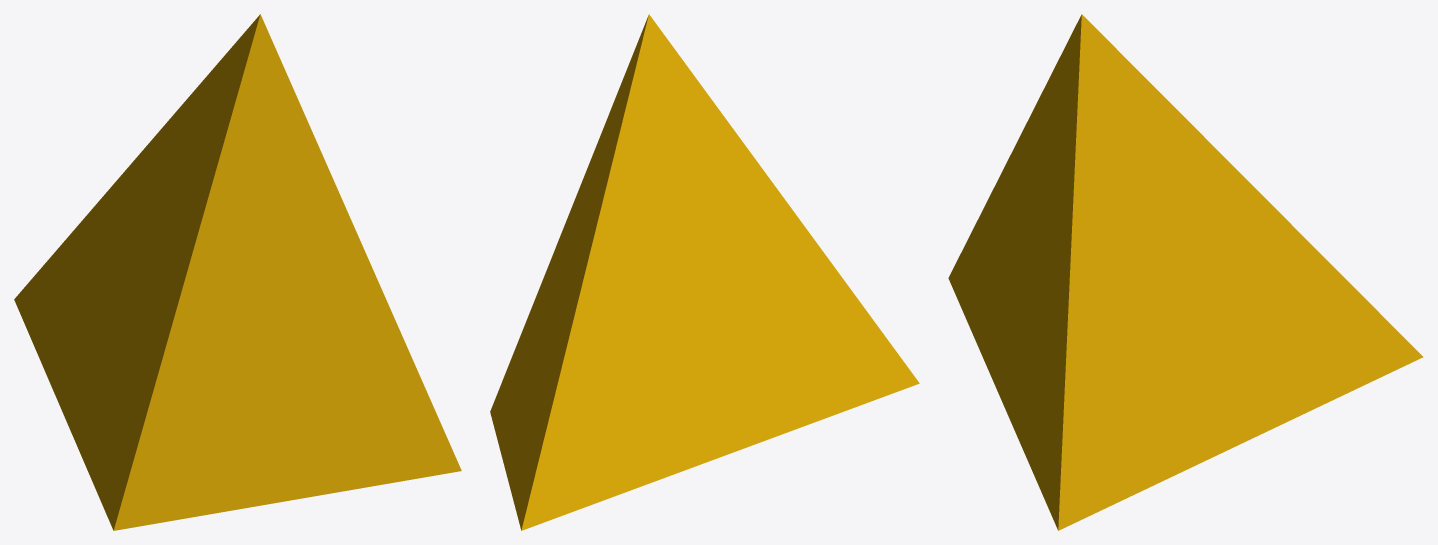
The model's file is Particle_Shape1.fbx.
3 views of the same model, side by side, from view 1: azimuth 30°, elevation 25°; view 2: azimuth 150°, elevation 25°; view 3: azimuth 270°, elevation 25° (orthographic). The views are drawn at different scales.
Visible parts, largest first — view 1: pSolid1; view 2: pSolid1; view 3: pSolid1.
Part boxes in pixels (x1,y1,x2,y2): pSolid1: [14, 14, 461, 530]; pSolid1: [490, 14, 919, 530]; pSolid1: [948, 14, 1423, 530].
Bounding box in the file's own units: 91.52 × 105 × 104.
